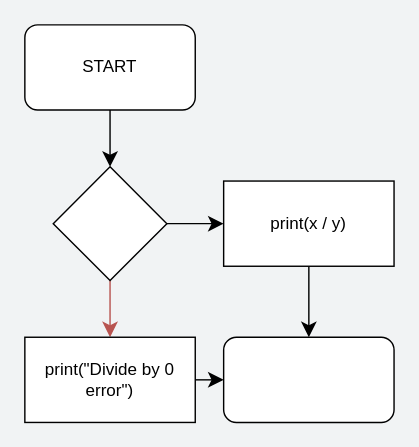
Image size: 419x447. Some labels were removed from this diagram. Each missing label, with the centre of its shape:
END: (308,379)
y != 0: (109,222)
